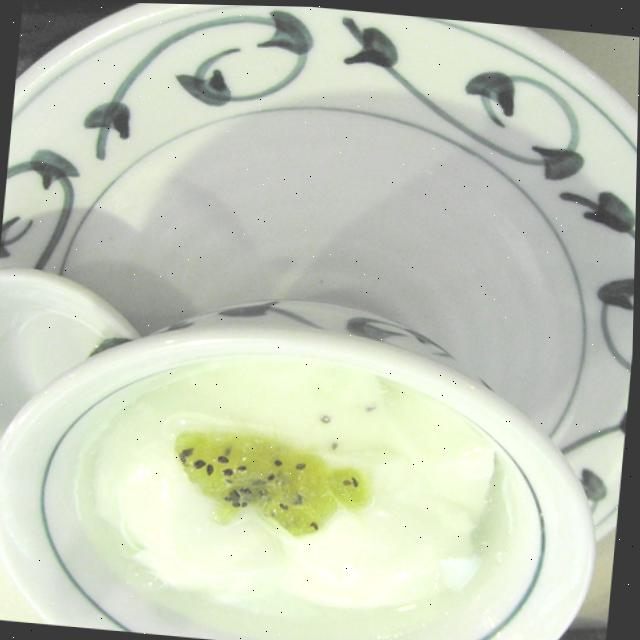寿司卷物: (28, 94, 559, 540)
